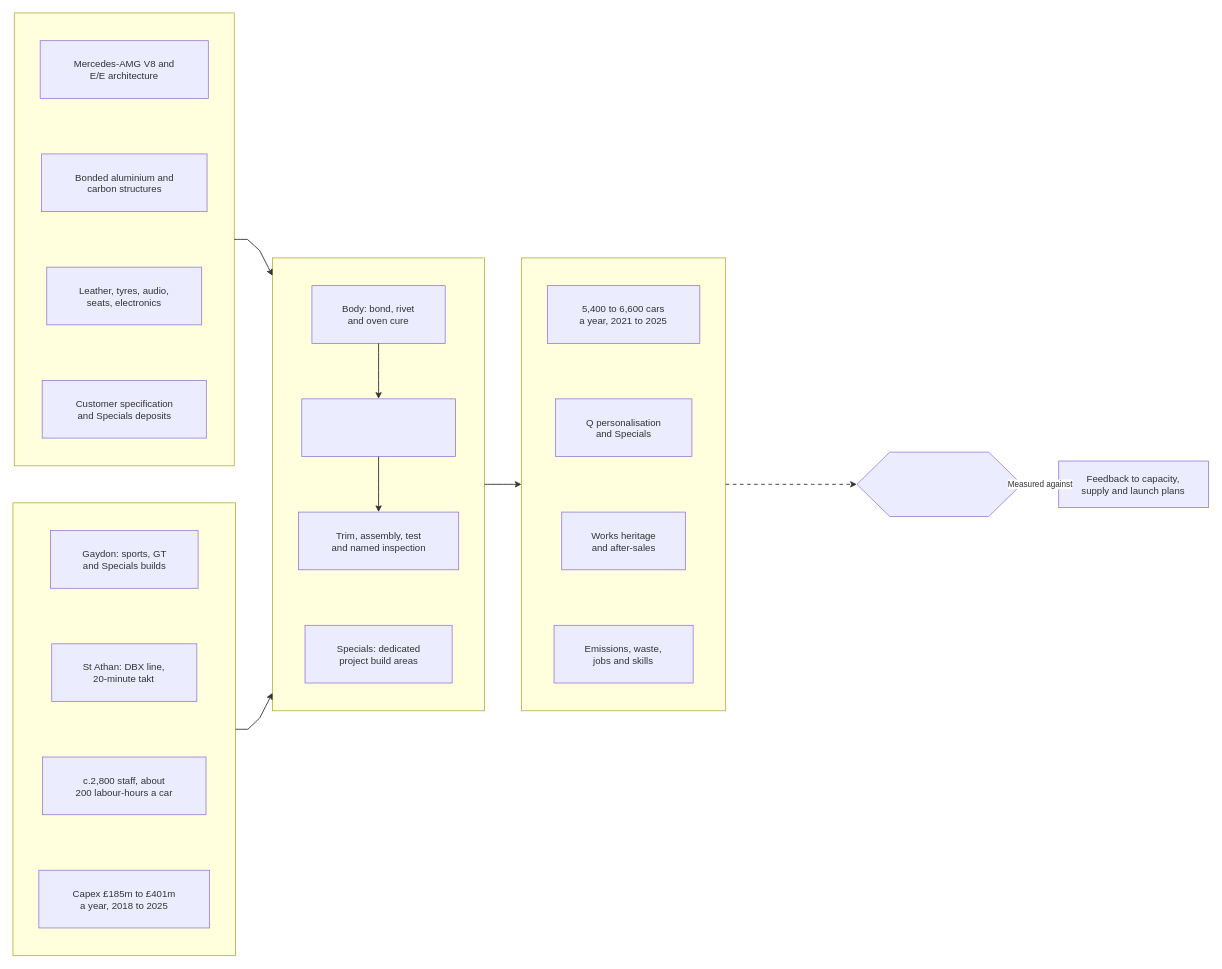
This 1222x969 diagram has some shape labels left out. Each missing label, with the box of its shape:
Five objectives: quality, speed, dependability, flexibility and cost: (856, 451, 1022, 517)
Outputs: (521, 257, 726, 711)
Paint: 25 to 50 hours with hand polish: (301, 398, 455, 457)
Transformation: (272, 257, 485, 711)
Transformed inputs: (14, 12, 234, 466)
Transforming inputs: (12, 502, 236, 956)
